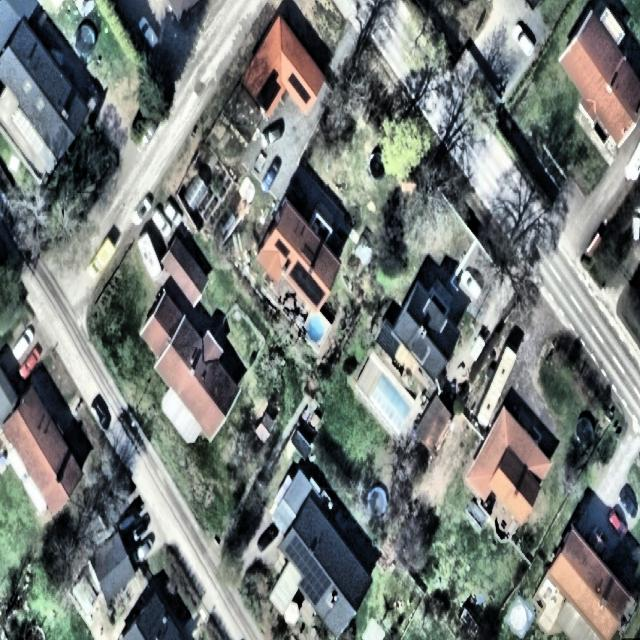roof_pv: (283, 533, 332, 606), (289, 262, 325, 307), (252, 69, 284, 112), (287, 69, 315, 106), (272, 233, 294, 262)
